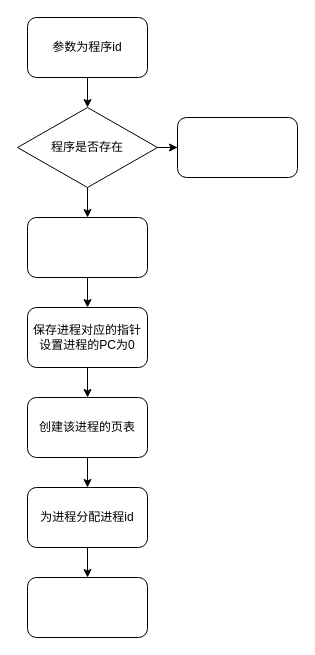
The diagram is 315 pixels wide and 655 high, and some of its shapes have lost their labels. Each missing label, with the centre of its shape:
"创建一个PCB结构体" belongs at point 87,247.
"把进程追加到进程链表末尾" belongs at point 87,607.
"返回 -1" belongs at point 237,147.
